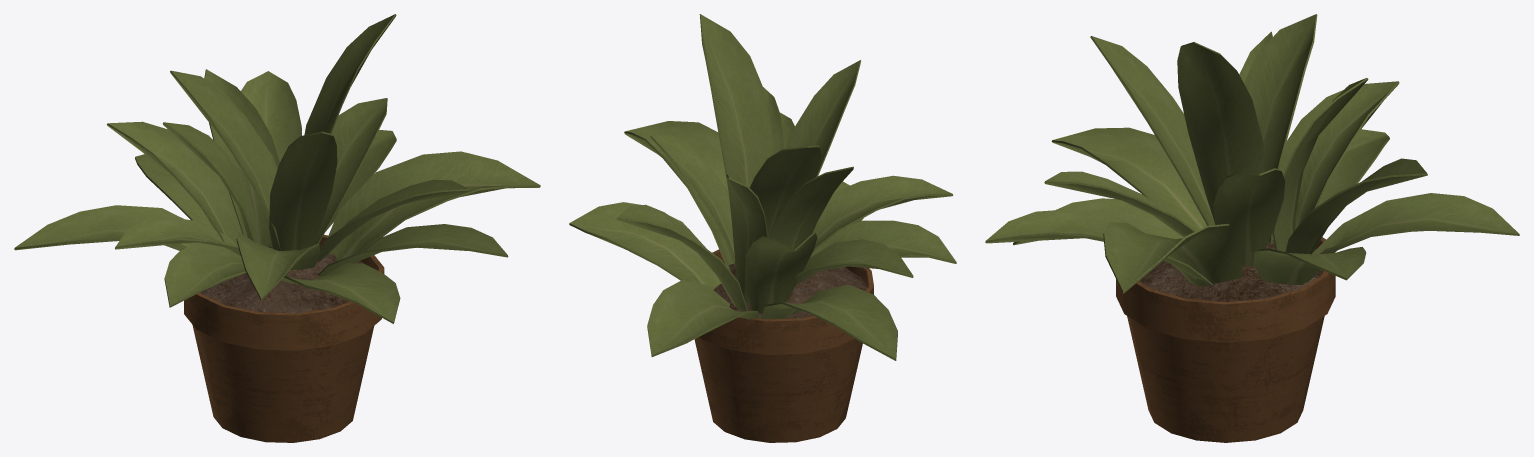
Rendered from small_plant.glb.
3 renders of one model, left to right at view 1: azimuth 30°, elevation 25°; view 2: azimuth 150°, elevation 25°; view 3: azimuth 270°, elevation 25°, orthographic. The views are drawn at different scales.
Parts seen in each view (by area): view 1: Potted_plants; view 2: Potted_plants; view 3: Potted_plants.
Part boxes in pixels (bbox=[...]): Potted_plants: bbox=[14, 14, 540, 442]; Potted_plants: bbox=[569, 14, 956, 442]; Potted_plants: bbox=[985, 14, 1519, 442].
Size of the model in its own units: 0.4315 by 0.3921 by 0.4524.
Materials: 1 (1 with a texture image).
